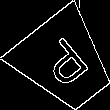P_SE: (34, 32, 96, 94)
